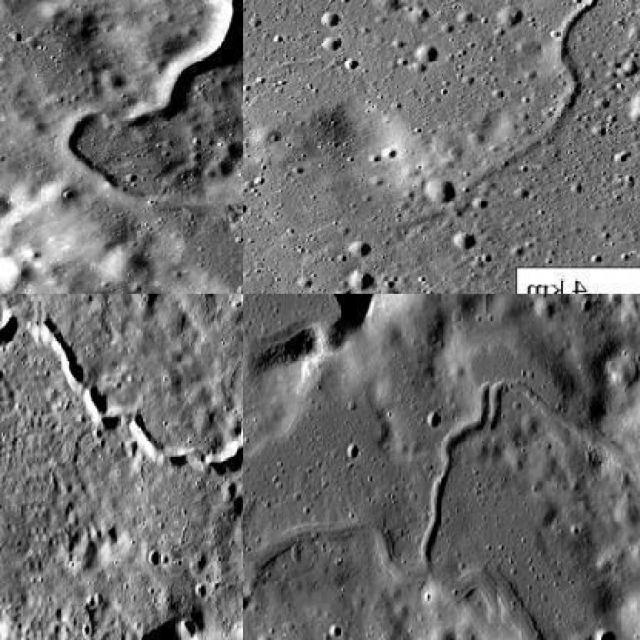rille: (243, 355, 631, 611), (343, 0, 619, 237), (49, 0, 241, 292), (0, 294, 242, 474)
